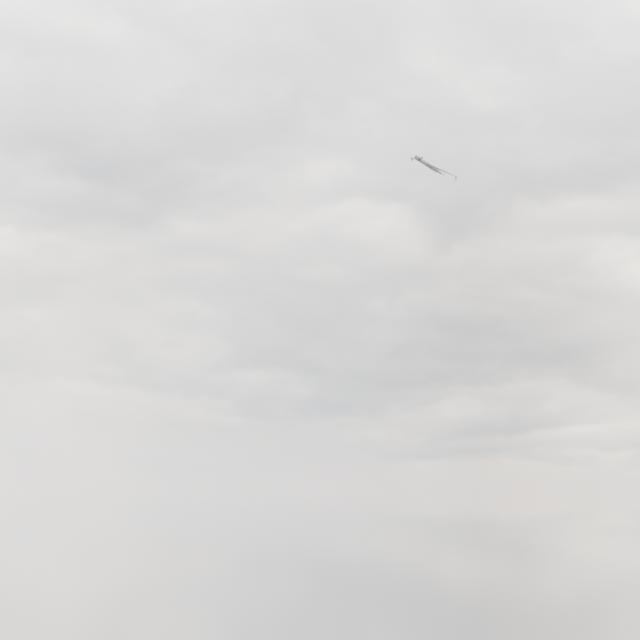Airaplan: (411, 155, 457, 180)
